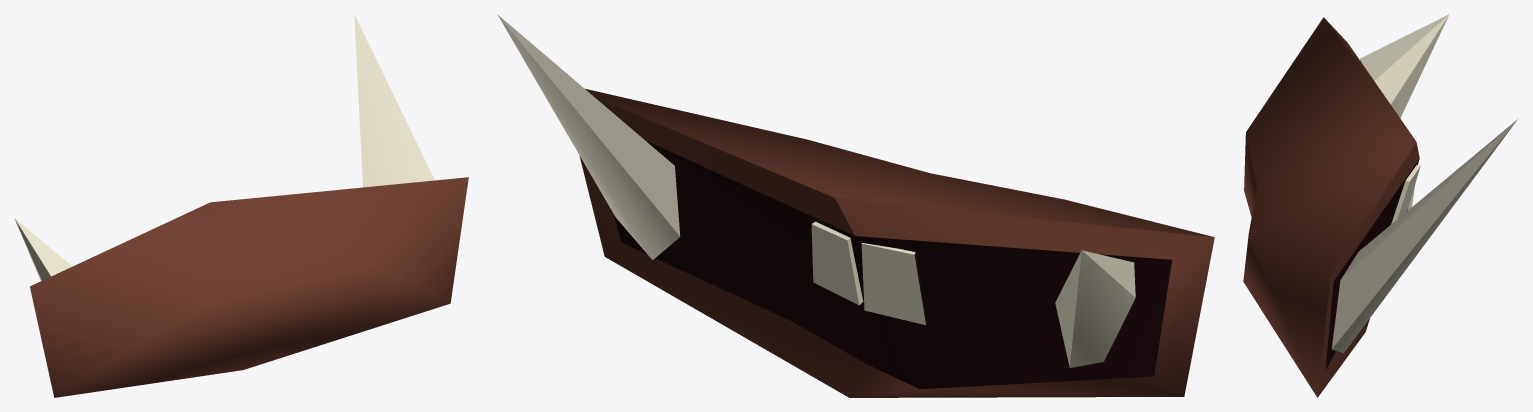
The model's file is GobMouth1.fbx.
3 renders of one model, left to right at view 1: azimuth 30°, elevation 25°; view 2: azimuth 150°, elevation 25°; view 3: azimuth 270°, elevation 25°, orthographic. The views are drawn at different scales.
Visible parts, largest first — view 1: Cone.001; view 2: Cone.001; view 3: Cone.001.
Boxes of the visible parts, left/top/right/bottom form: Cone.001: left=14, top=14, right=468, bottom=397; Cone.001: left=497, top=14, right=1214, bottom=397; Cone.001: left=1243, top=14, right=1518, bottom=397.
Size of the model in its own units: 0.1321 by 0.0759 by 0.0601.
